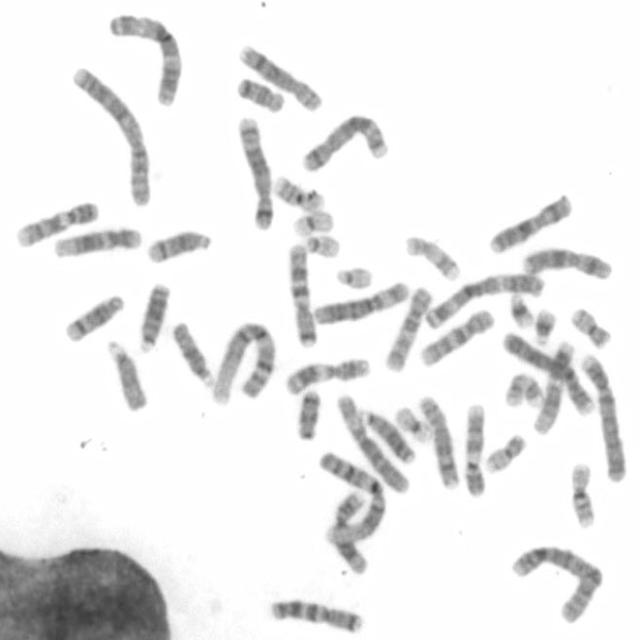A1: (315, 446, 387, 546), (207, 317, 278, 405)
A2: (65, 62, 154, 208), (506, 539, 606, 626)
A3: (105, 7, 185, 108), (421, 268, 545, 331)
B4: (500, 327, 596, 418), (577, 348, 627, 482)
B5: (298, 110, 390, 174), (233, 111, 277, 232)
C10: (416, 304, 496, 368), (380, 283, 434, 373)
C11: (282, 353, 373, 395), (328, 488, 370, 575)
C12: (528, 336, 576, 437), (49, 221, 142, 261)
C6: (332, 387, 413, 495), (308, 276, 411, 328)
C7: (264, 592, 366, 636), (284, 238, 320, 349)
C8: (234, 39, 324, 113), (414, 391, 461, 491)
C9: (12, 194, 102, 250), (459, 398, 489, 498)
D13: (345, 403, 416, 466), (134, 275, 172, 354)
D14: (61, 288, 127, 345), (142, 224, 214, 266)
D15: (103, 335, 150, 413), (168, 316, 216, 389)
E16: (271, 170, 327, 214), (566, 458, 598, 531)
E17: (401, 230, 463, 282), (501, 368, 544, 410)
E18: (233, 72, 287, 114), (292, 385, 324, 442)
F19: (392, 401, 434, 444), (289, 205, 336, 238)
F20: (481, 428, 529, 476), (566, 303, 614, 350)
G21: (504, 288, 534, 329), (530, 304, 558, 347)
G22: (331, 262, 375, 292), (302, 230, 343, 260)
X: (485, 188, 574, 255), (518, 242, 615, 282)
